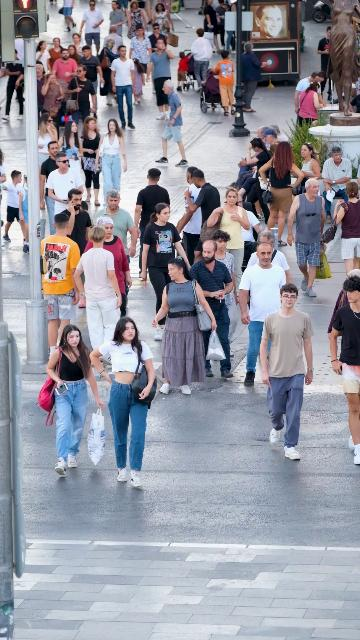person: (89, 316, 156, 488), (259, 284, 314, 461), (45, 324, 104, 475), (152, 258, 217, 394), (141, 203, 192, 342), (238, 242, 286, 388), (189, 241, 235, 379), (40, 213, 82, 359), (74, 226, 122, 350), (330, 276, 360, 466), (258, 141, 305, 247), (83, 216, 132, 316), (286, 178, 326, 298), (207, 188, 251, 292), (205, 230, 240, 341), (134, 168, 172, 270), (183, 170, 223, 263), (92, 189, 139, 263), (45, 152, 84, 229), (226, 138, 271, 203), (174, 167, 203, 267), (155, 79, 188, 166), (332, 181, 360, 276), (246, 230, 294, 285), (327, 268, 360, 344), (95, 119, 128, 195), (228, 127, 268, 189), (57, 188, 92, 258), (322, 146, 353, 225), (147, 39, 175, 120), (79, 116, 103, 206), (111, 45, 136, 129), (39, 141, 60, 239), (243, 42, 270, 113), (66, 65, 96, 128), (79, 46, 105, 118), (294, 71, 325, 127), (3, 170, 27, 242), (212, 50, 236, 116), (0, 61, 26, 121), (226, 161, 262, 202), (101, 39, 123, 106), (41, 73, 68, 127), (79, 0, 104, 58), (238, 196, 261, 258), (58, 121, 83, 178), (129, 27, 151, 90), (297, 81, 327, 127), (296, 143, 322, 194), (191, 28, 213, 85), (38, 113, 59, 169), (52, 48, 78, 91), (317, 26, 331, 101), (151, 4, 175, 45), (127, 1, 147, 50), (36, 63, 49, 125), (176, 51, 195, 92), (147, 23, 167, 58), (131, 59, 145, 105), (35, 40, 52, 76), (48, 37, 63, 71), (259, 127, 279, 149), (269, 124, 288, 147), (68, 45, 81, 72), (71, 34, 83, 58), (14, 49, 24, 64), (225, 0, 237, 12), (0, 219, 4, 249)
